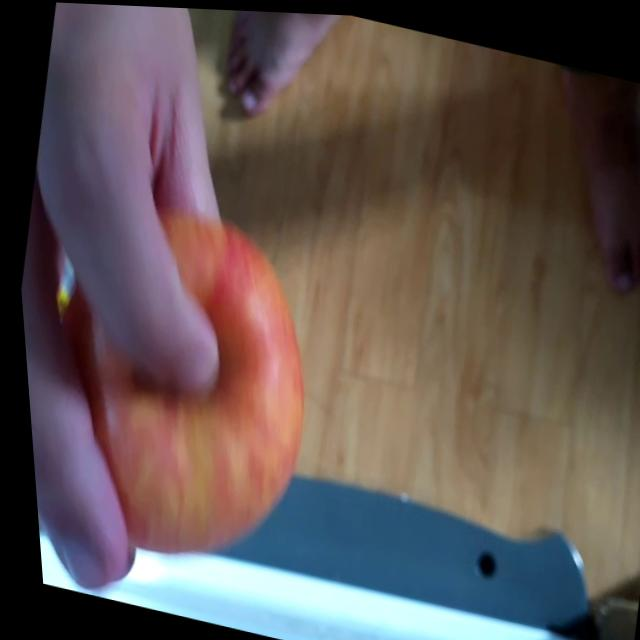apple: (26, 187, 348, 579)
